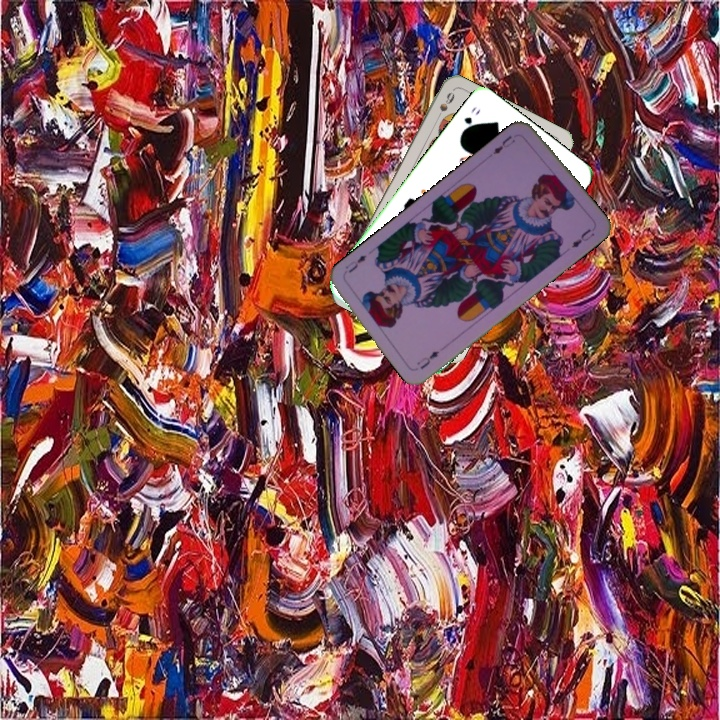EU: (489, 131, 518, 157), (413, 347, 442, 372)
GO: (457, 103, 483, 137)
S9: (431, 88, 457, 126)
